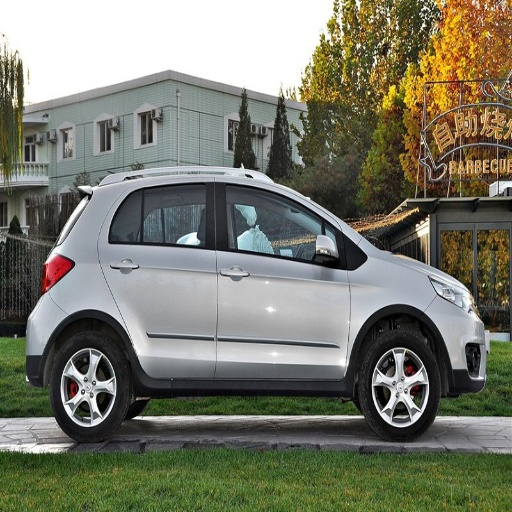back_right_door: (100, 180, 214, 380)
front_right_door: (215, 181, 350, 378)
